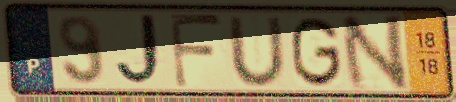9: (55, 12, 108, 87)
F: (166, 11, 227, 92)
G: (289, 14, 345, 90)
J: (114, 11, 170, 90)
N: (337, 11, 412, 94)
U: (225, 14, 290, 89)
